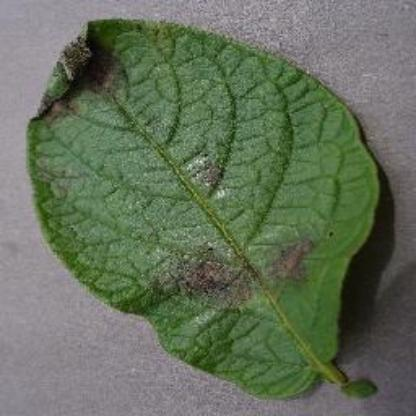Late-Blight: (24, 10, 396, 416)
